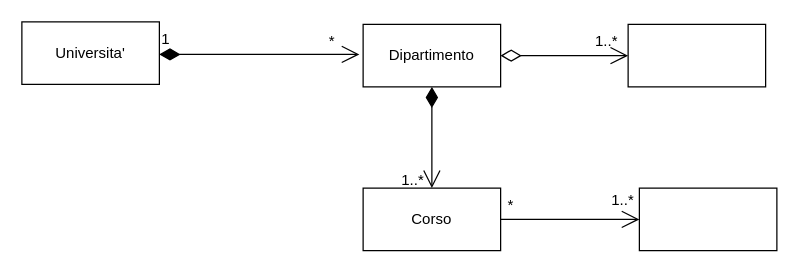
Image size: 799x273. Some labels were removed from this diagram. Each missing label, with the centre of its shape:
Professore: the point at 696,55
Studente: the point at 707,219
